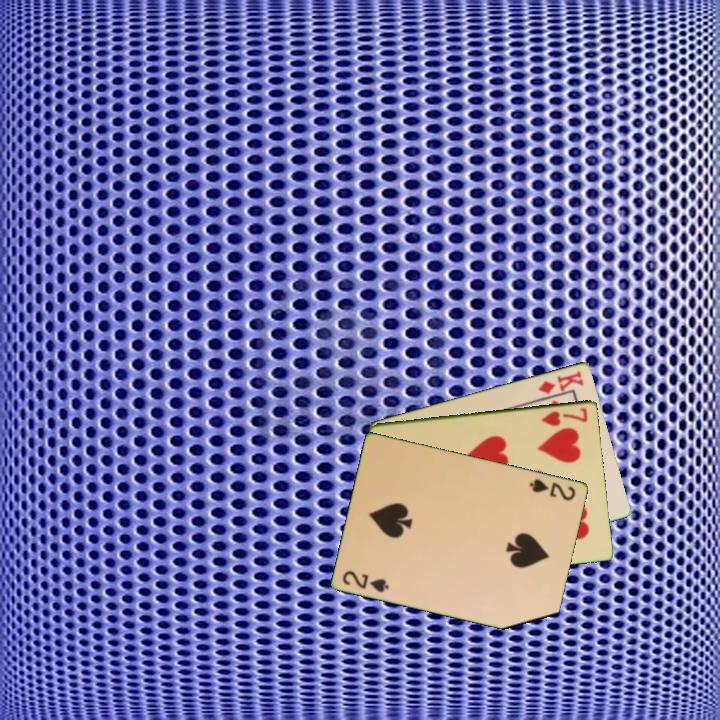2s: (526, 475, 579, 503), (339, 567, 392, 595)
7h: (537, 404, 591, 429)
Kd: (534, 367, 587, 397)
